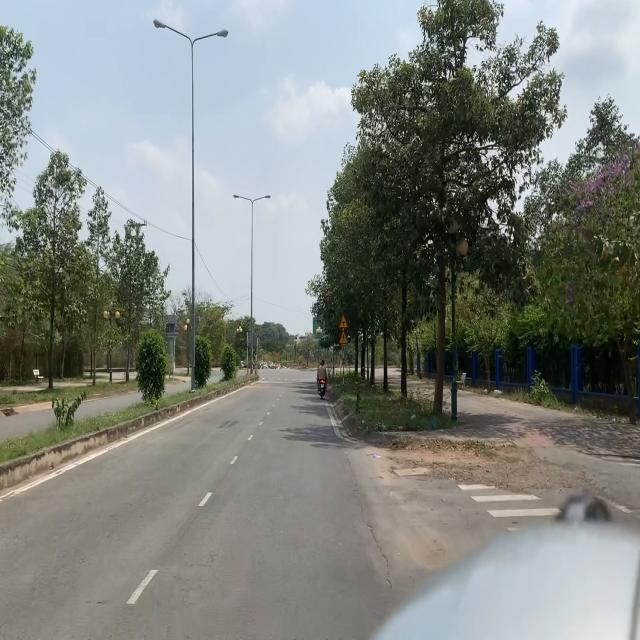Duong giao nhau: (339, 314, 348, 330)
Nguoi di bo cat ngang: (339, 330, 348, 345)
